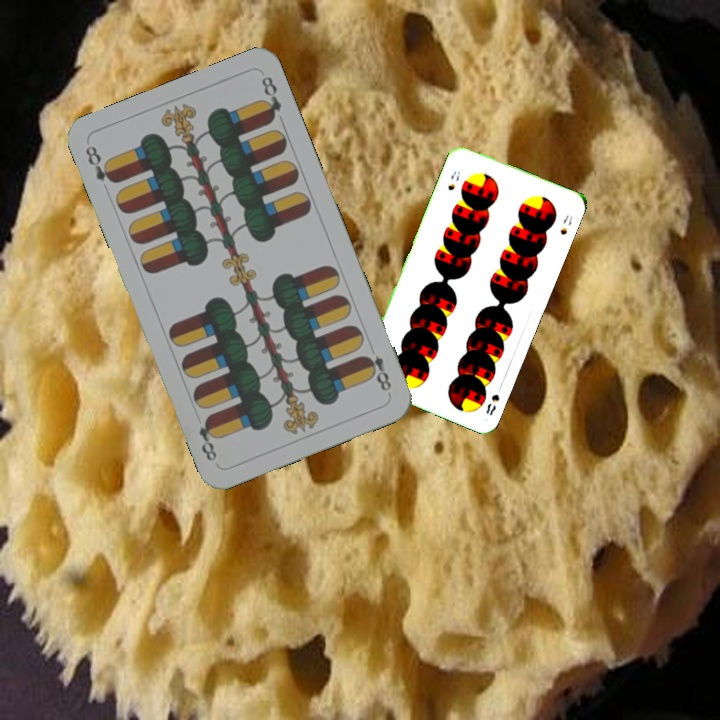E8: (81, 141, 119, 186), (359, 350, 394, 397)
S8: (482, 381, 505, 418), (444, 167, 463, 193)
